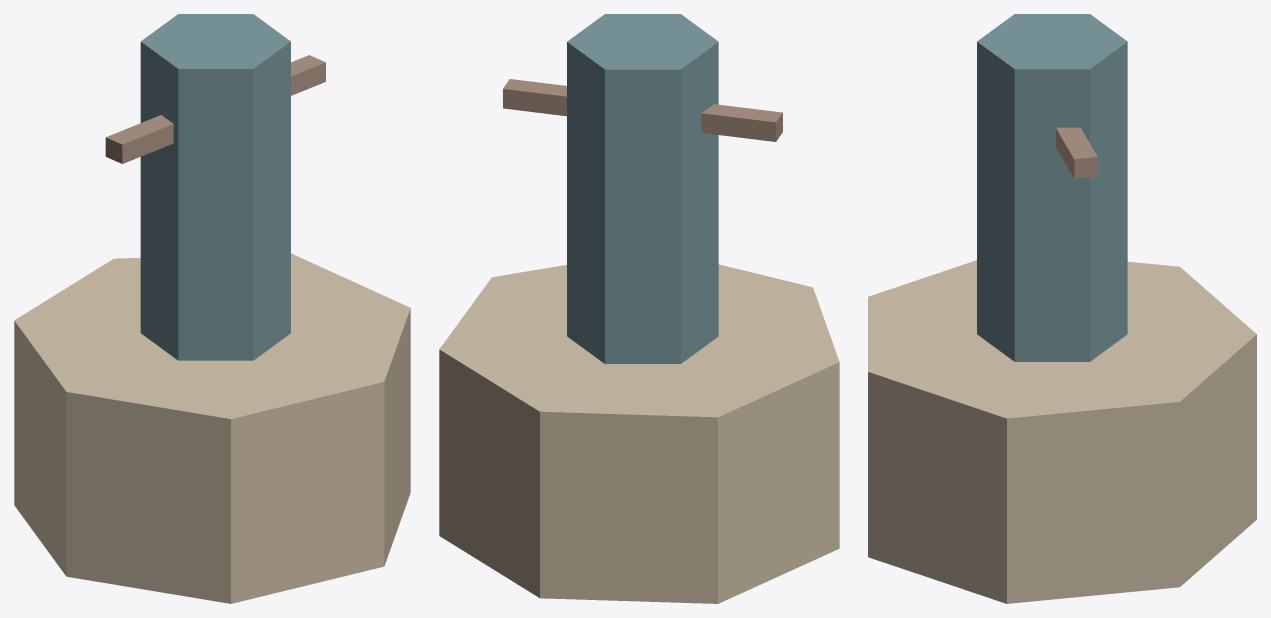
File: harbour-capstan-01.glb
The picture shows the model from 3 angles, left to right: view 1: azimuth 30°, elevation 25°; view 2: azimuth 150°, elevation 25°; view 3: azimuth 270°, elevation 25°; orthographic projection.
Parts seen in each view (by area): view 1: CapstanBase, CapstanPost, CrankArm; view 2: CapstanBase, CapstanPost, CrankArm; view 3: CapstanBase, CapstanPost, CrankArm.
Part boxes in pixels (box(x1,y1,x2,y2)): CapstanBase: box(14, 253, 410, 603); CapstanPost: box(140, 14, 290, 360); CrankArm: box(105, 55, 325, 163); CapstanBase: box(439, 264, 839, 603); CapstanPost: box(567, 14, 718, 363); CrankArm: box(503, 79, 782, 141); CapstanBase: box(868, 260, 1256, 603); CapstanPost: box(977, 14, 1127, 361); CrankArm: box(1056, 127, 1097, 178).
Size of the model in its own units: 0.7409 by 0.98 by 0.7224.
